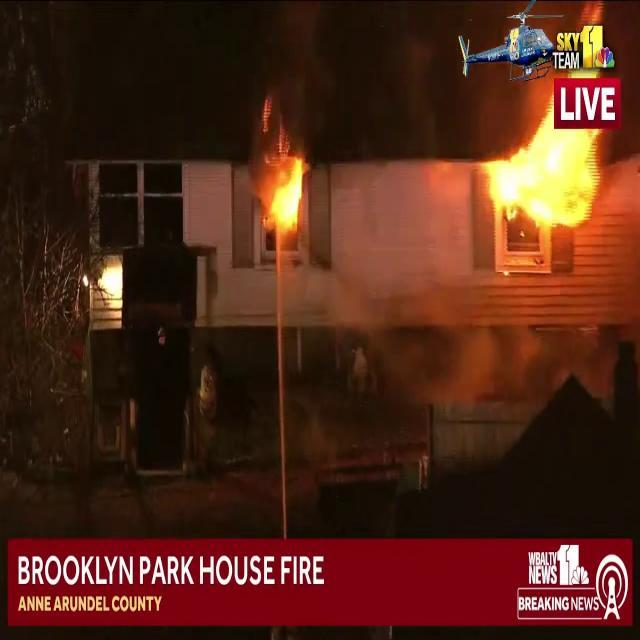Fire: (478, 86, 612, 233), (250, 116, 312, 247)
